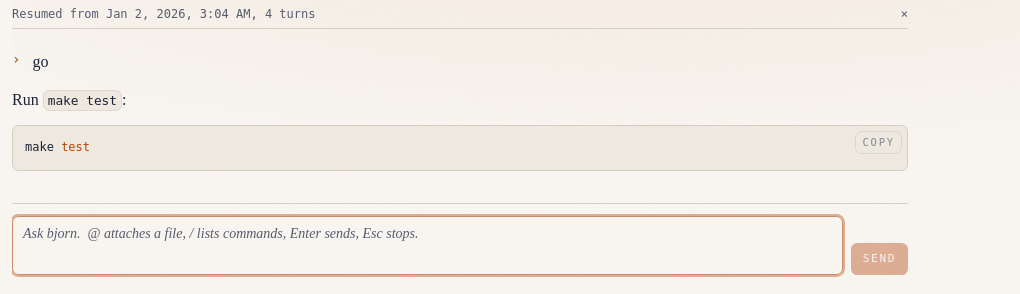
Thread › shows a dismissible banner on a resumed thread
expect the message reads "Resumed from Jan 2, 2026, 3:04 AM, 4 turns ×": met, box [12, 6, 908, 22]
Click the button named "dismiss".
click(904, 14)  # box [901, 6, 908, 22]
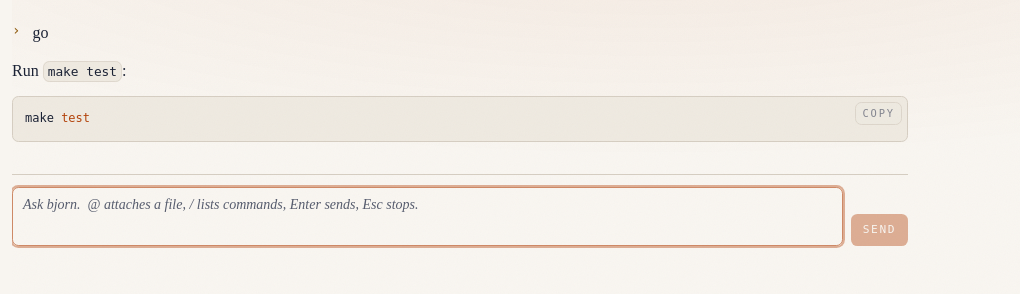
expect the message "Resumed from Jan 2, 2026, 3:04 AM, 4 turns ×" is gone: met
